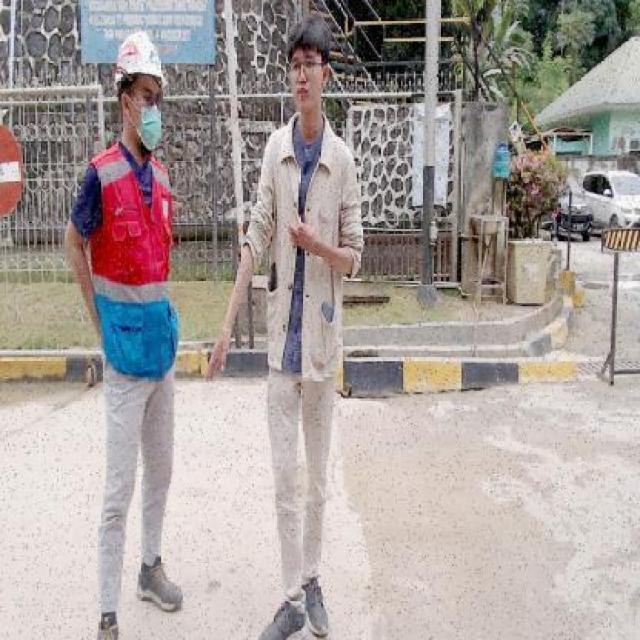Boots: (136, 555, 182, 617), (258, 592, 308, 639), (303, 576, 334, 639), (94, 610, 123, 639)
Helmet: (111, 31, 171, 94)
Mask: (126, 99, 165, 155)
